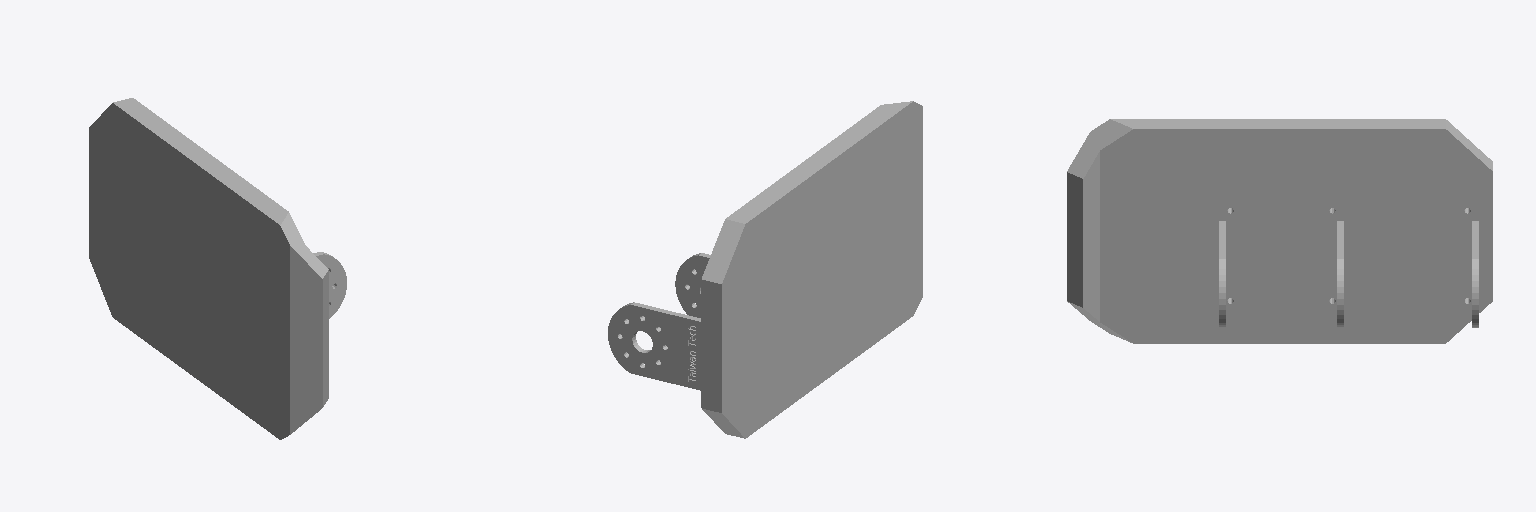
File: RightFoot.obj
The picture shows the model from 3 angles: view 1: azimuth 30°, elevation 25°; view 2: azimuth 150°, elevation 25°; view 3: azimuth 270°, elevation 25°; orthographic projection.
Size of the model in its own units: 5.9 by 10 by 18.